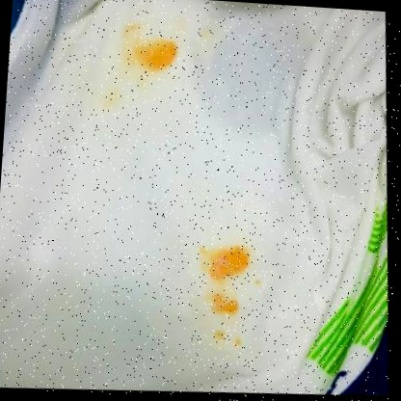kimchi: (117, 20, 179, 70), (196, 237, 254, 286), (102, 75, 144, 113), (201, 289, 247, 320), (207, 328, 248, 349), (254, 276, 265, 289)
